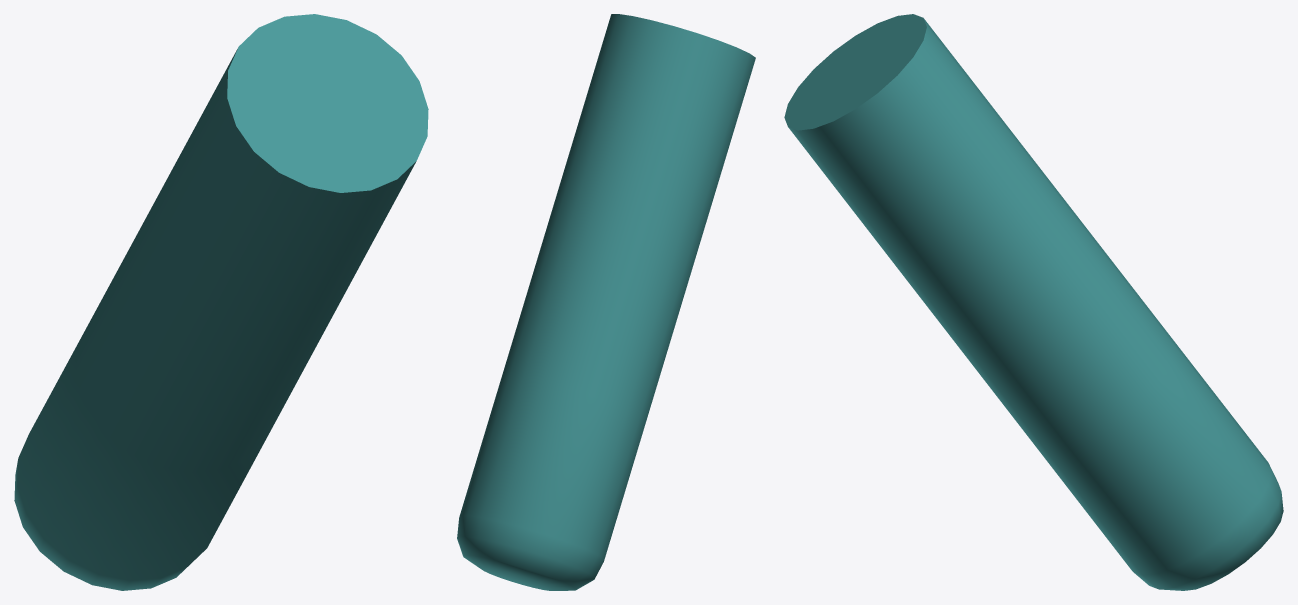
The model's file is SM_凯式定氮仪液体_003.fbx.
3 views of the same model, side by side, from view 1: azimuth 30°, elevation 25°; view 2: azimuth 150°, elevation 25°; view 3: azimuth 270°, elevation 25° (orthographic). The views are drawn at different scales.
Parts seen in each view (by area): view 1: SM_凯式定氮仪液体_003; view 2: SM_凯式定氮仪液体_003; view 3: SM_凯式定氮仪液体_003.
Boxes of the visible parts, x1,y1,x2,y2 form: SM_凯式定氮仪液体_003: (14,14,428,590); SM_凯式定氮仪液体_003: (457,14,755,590); SM_凯式定氮仪液体_003: (784,14,1283,590).
Bounding box in the file's own units: 0.0352 × 0.1232 × 0.1007.
